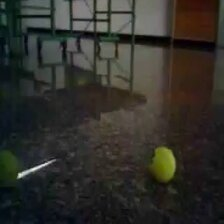tennis: (148, 147, 177, 184)
